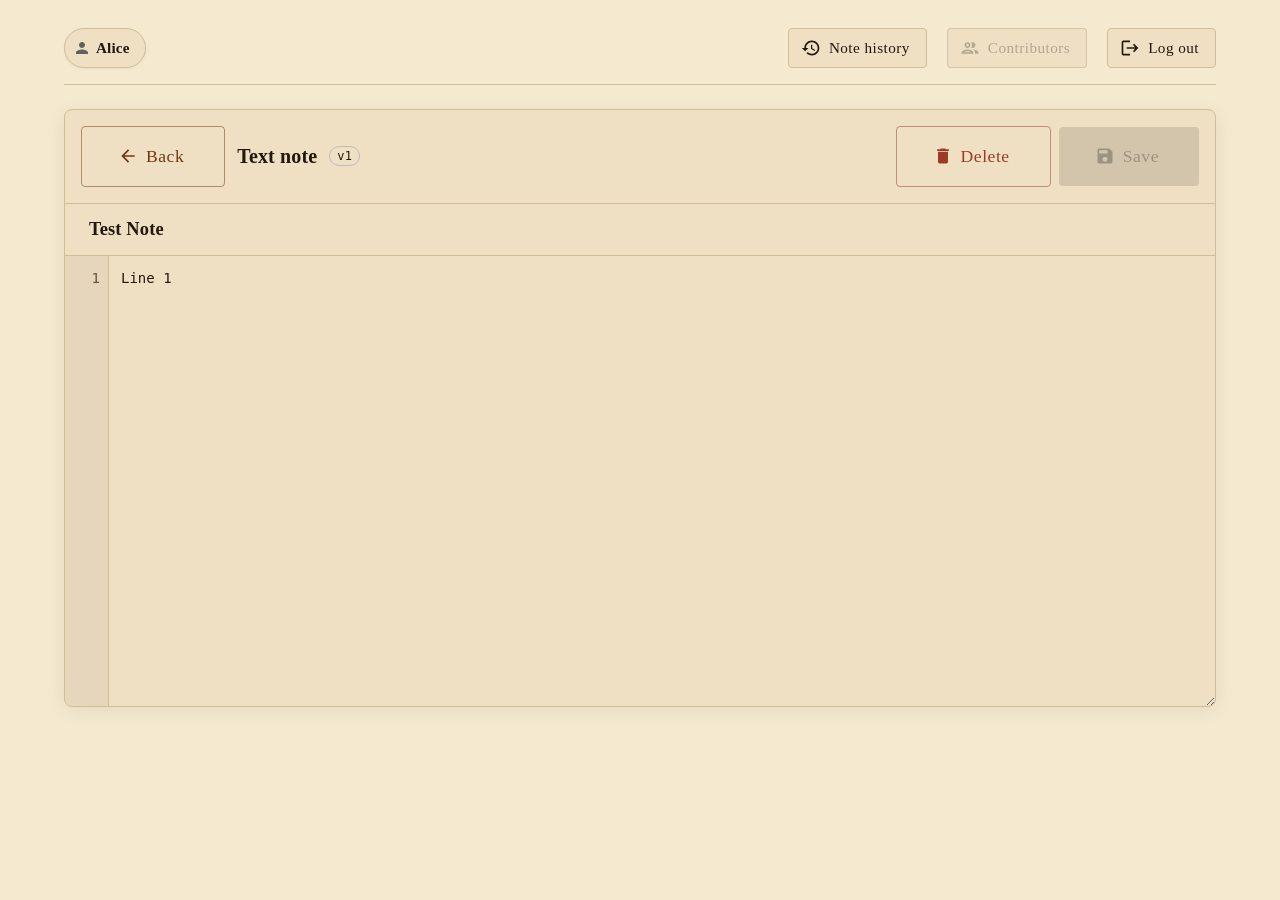
Scenario: NoteEditor Client Component › Version history drawer integration › displays error when getNoteVersionHistoryAction fails
The image size is (1280, 900).
Step 1. Click the button "Note history" → {"x": 857, "y": 48}, box [788, 28, 927, 68]
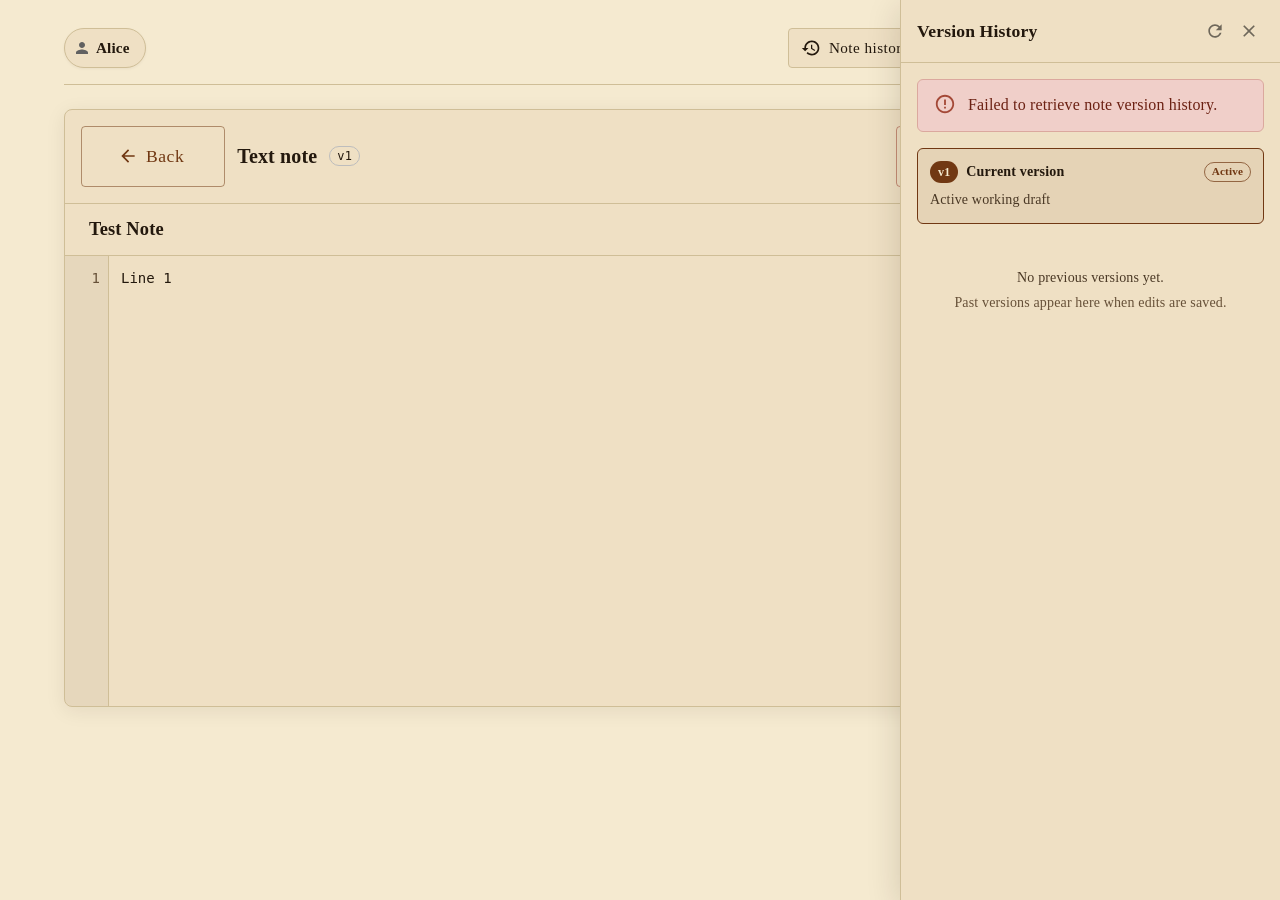
Now the text "Failed to retrieve note version history." is shown, box [968, 96, 1217, 113]
